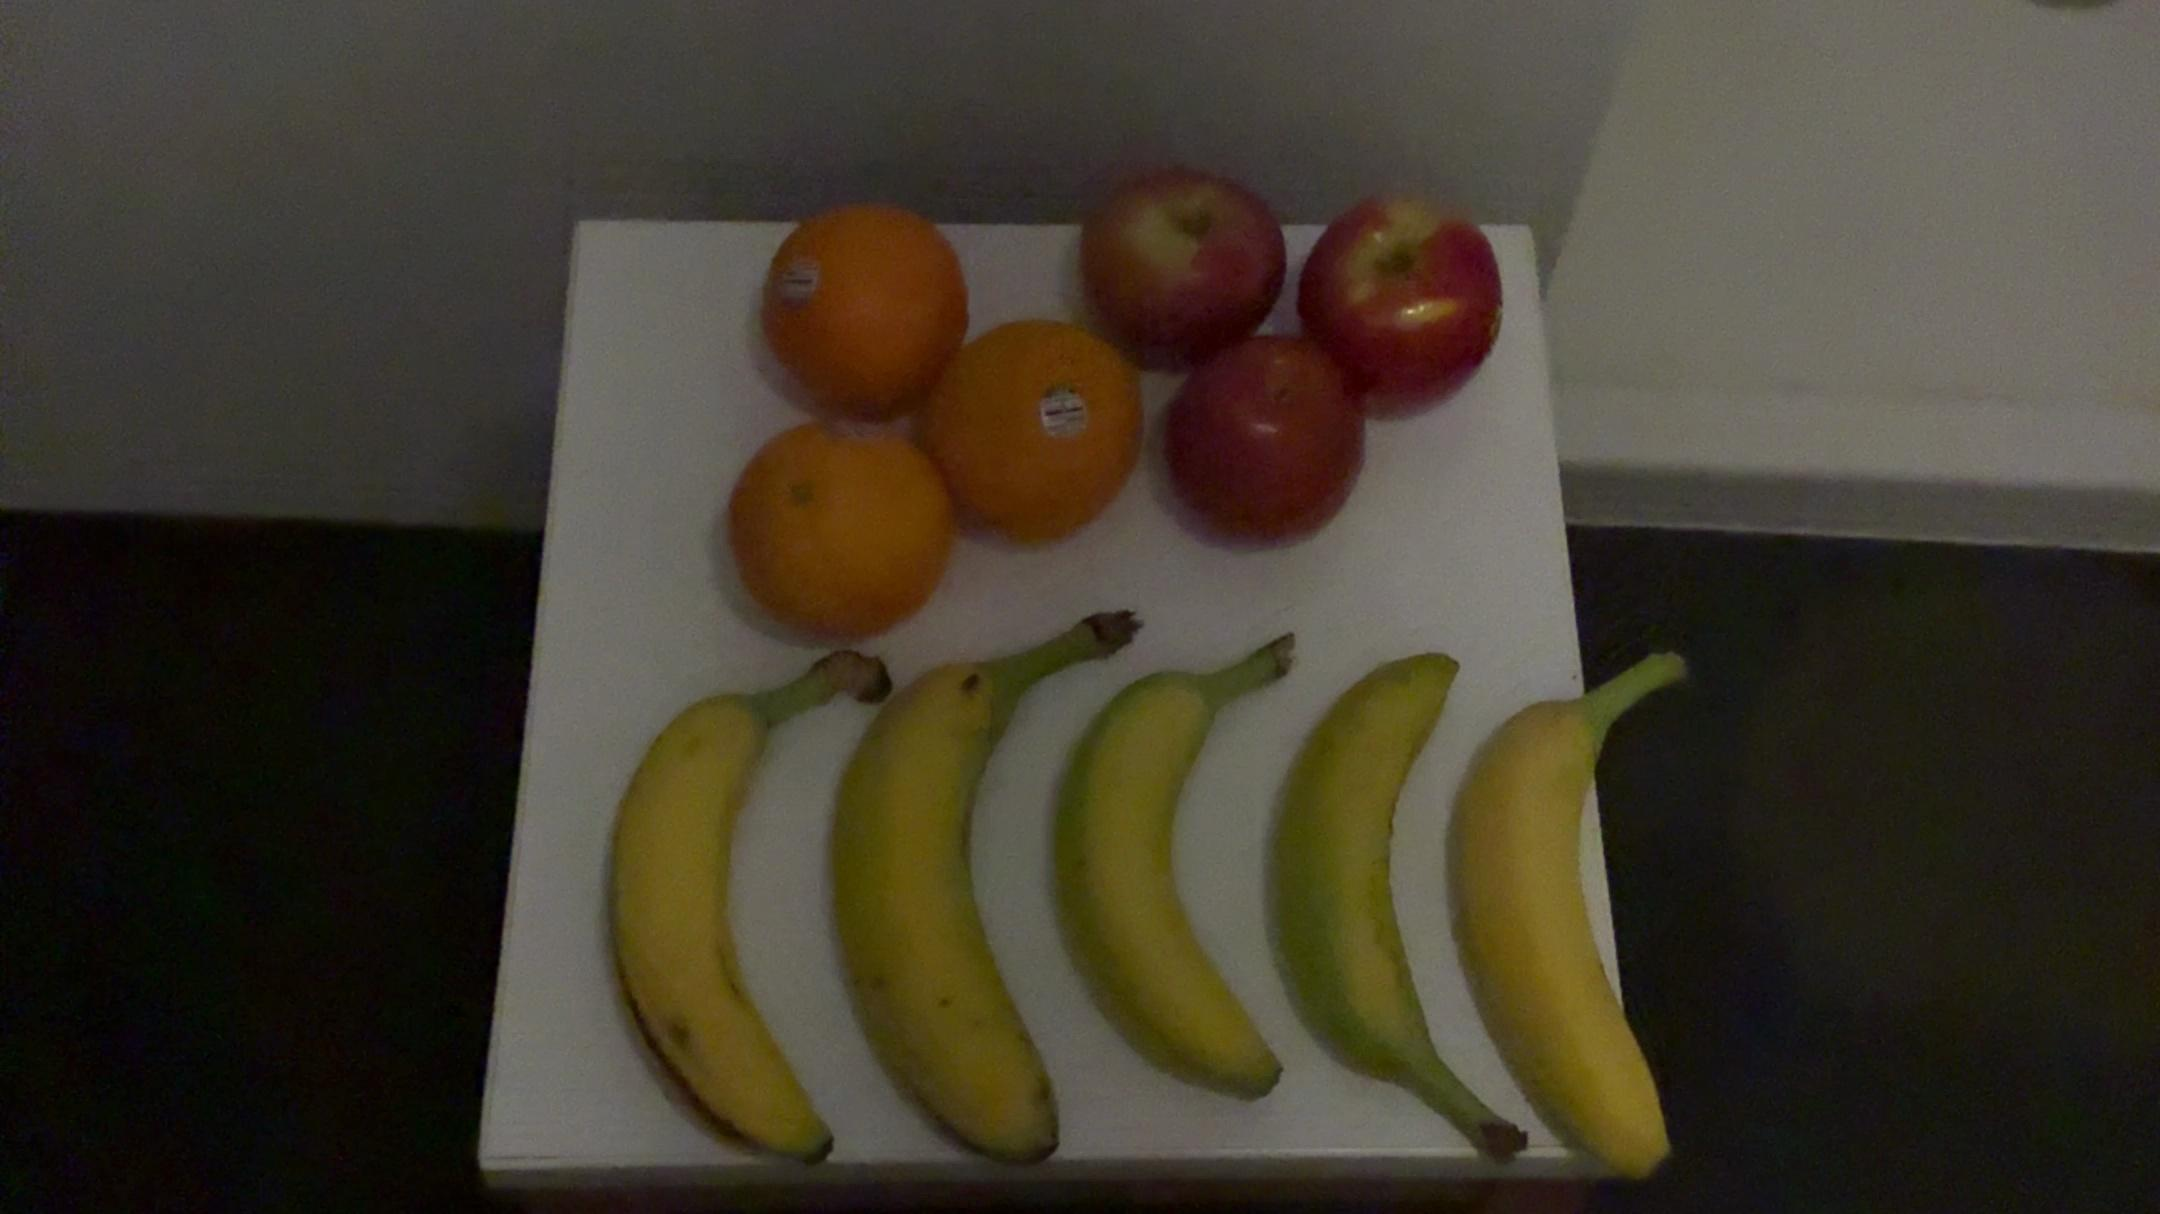apple: (1059, 159, 1307, 361), (1288, 194, 1509, 405), (1145, 341, 1369, 543)
banana: (820, 603, 1126, 1178), (1435, 634, 1716, 1202), (1234, 643, 1532, 1175), (585, 641, 880, 1177), (1037, 617, 1308, 1132)
orange: (918, 318, 1145, 557), (740, 197, 972, 419), (720, 416, 958, 629)
